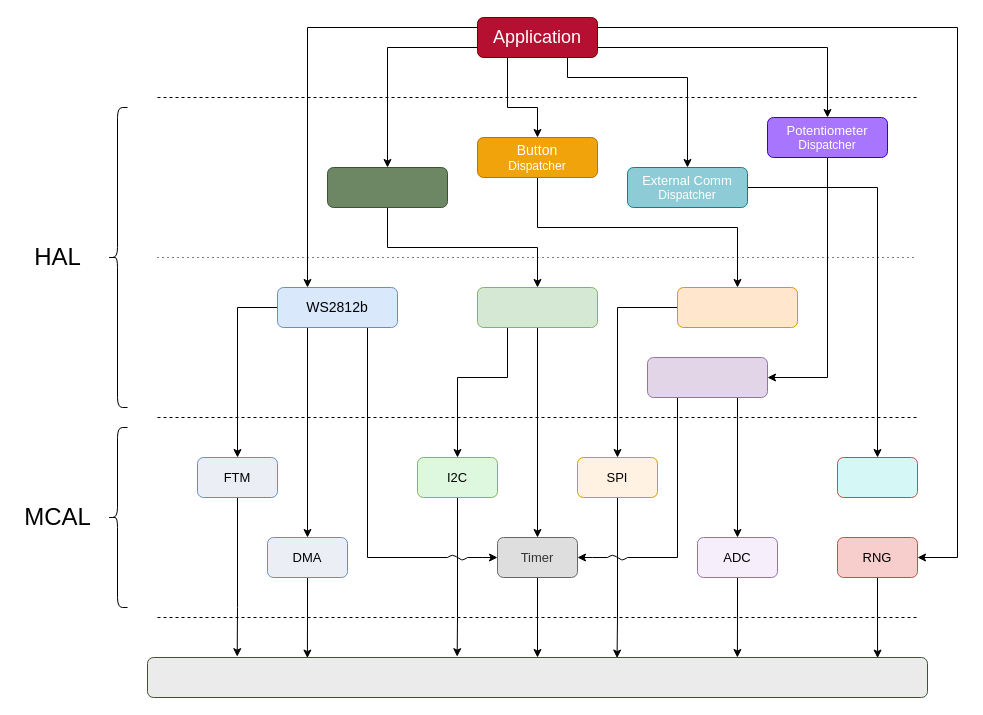
The diagram is 983 pixels wide and 715 high, and some of its shapes have lost their labels. The box of each missing label's shape, as (x1, y1, x2, y2) in pixels:
74HCT589: (676, 286, 798, 328)
Accelerometer Dispatcher: (326, 166, 448, 208)
FXOS8700CQ: (476, 286, 598, 328)
Microcontrolador: (146, 656, 928, 698)
Potenciómetro: (646, 356, 768, 398)
UART: (836, 456, 918, 498)
